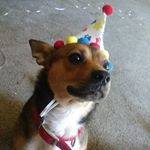puppy: (29, 37, 117, 150)
